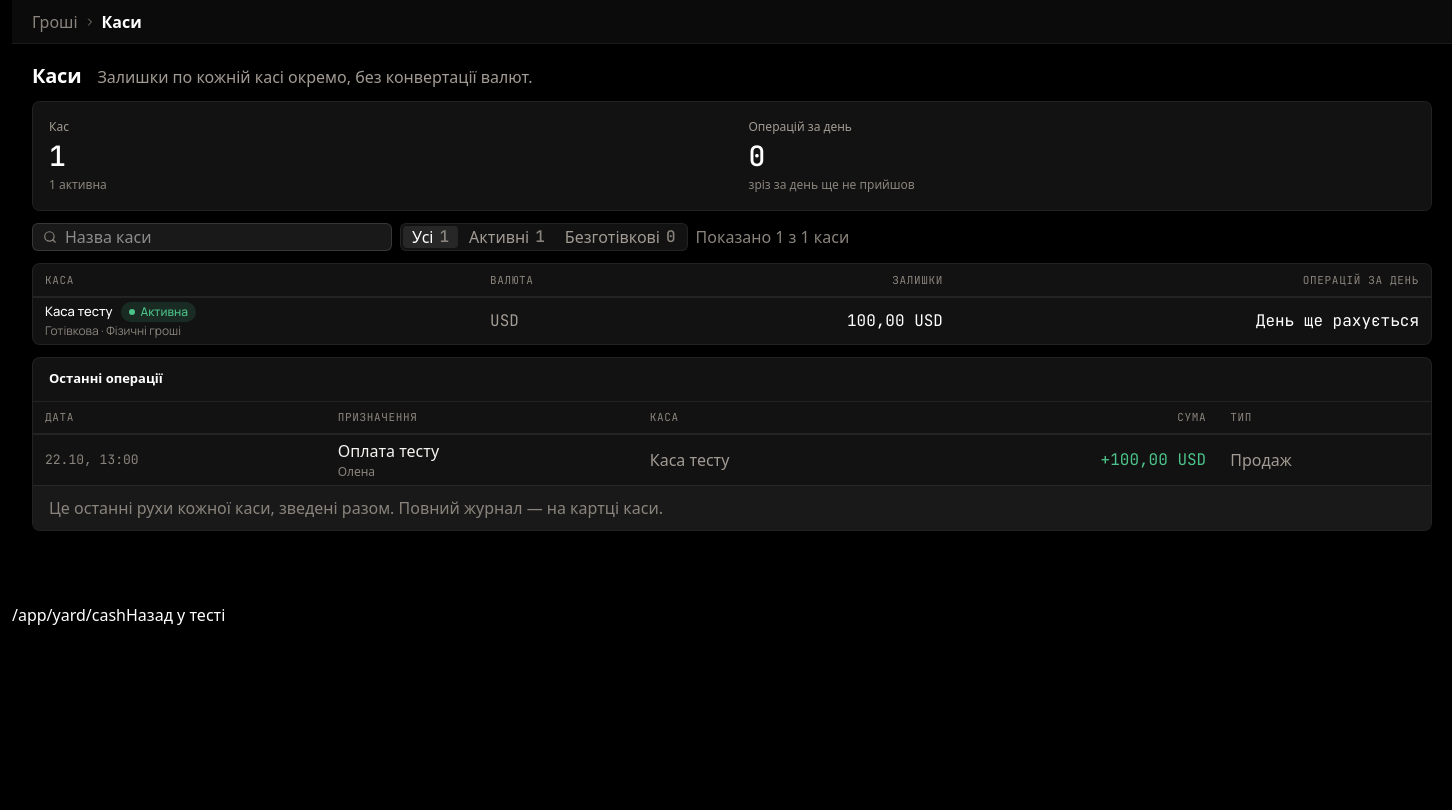
opens a till from the free space in its list row
Click the row "Каса тесту" at (732, 320), box [33,297,1431,344]
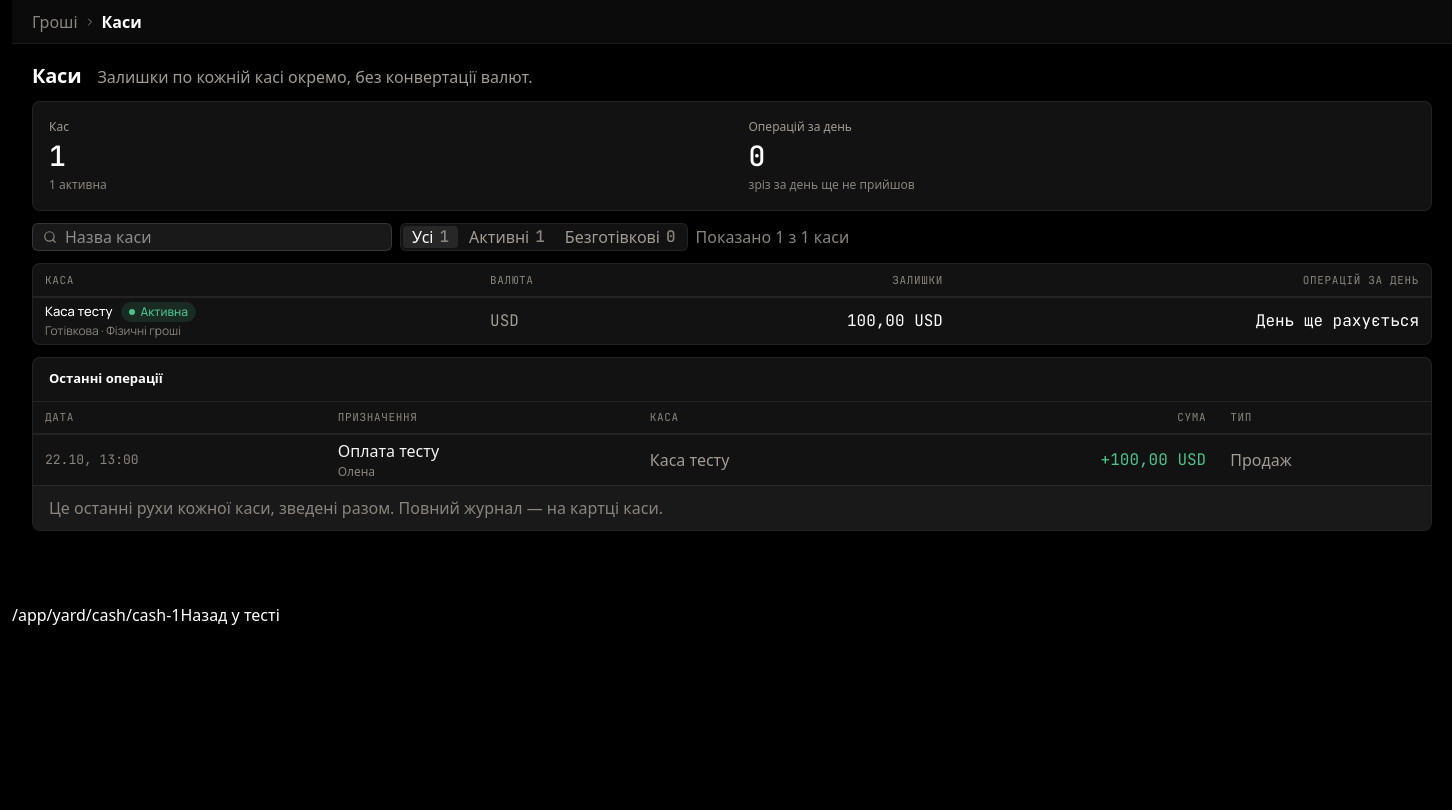
Expected: the text named "Маршрут" reads "/app/yard/cash/cash-1", [12,604,180,626]
